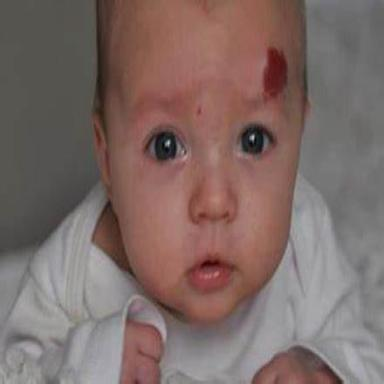Hemangiome: (263, 47, 287, 97)
